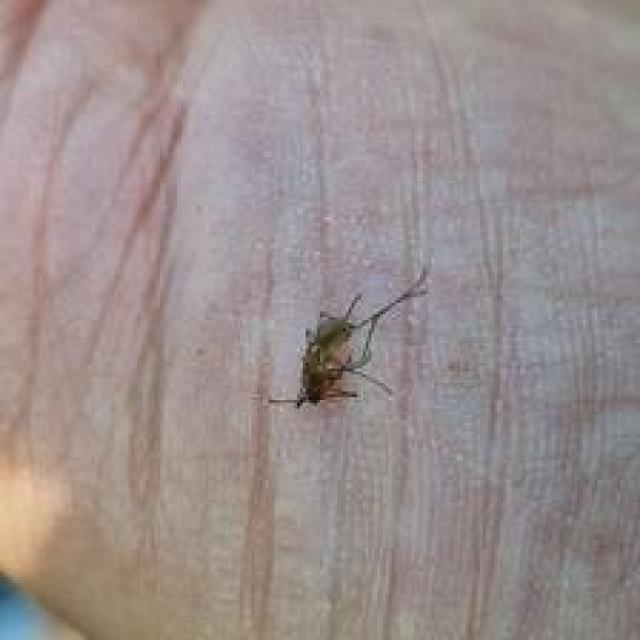Culex: (264, 264, 430, 413)
